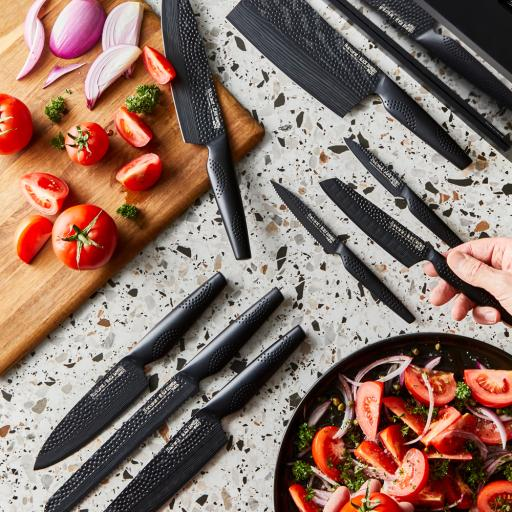knife: (22, 268, 236, 487)
